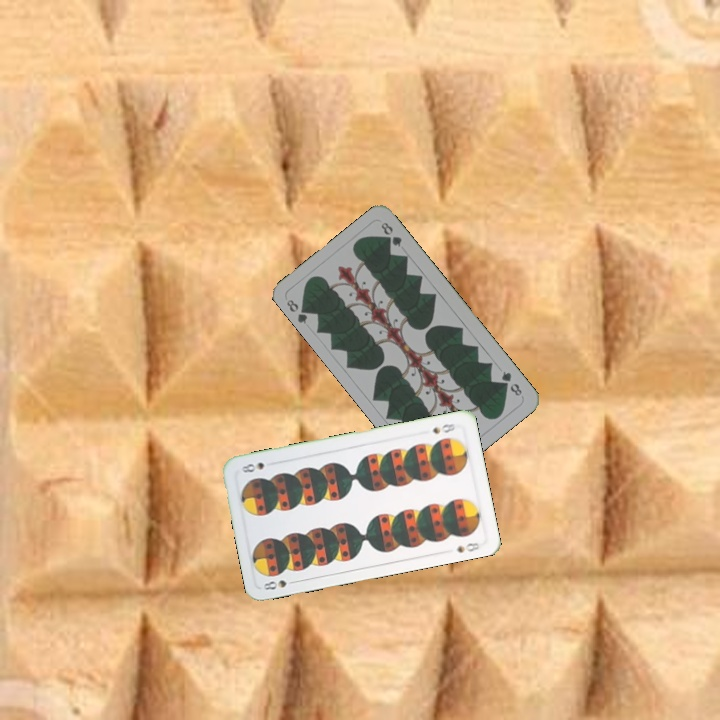G8: (282, 295, 313, 327), (497, 367, 525, 399)
S8: (259, 576, 300, 592), (428, 419, 457, 436)
